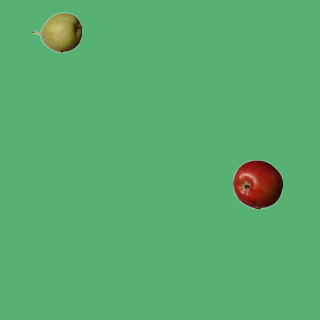Apple Braeburn: (232, 159, 282, 209)
Pear: (31, 7, 81, 57)
